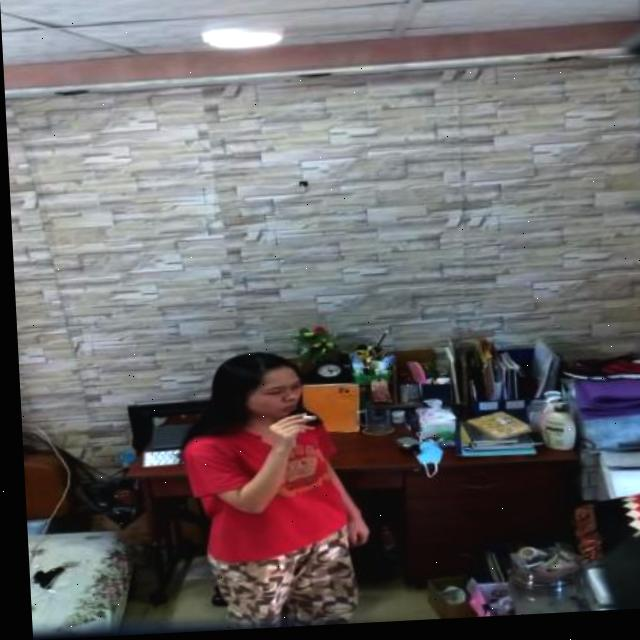cigarette: (298, 418, 314, 423)
